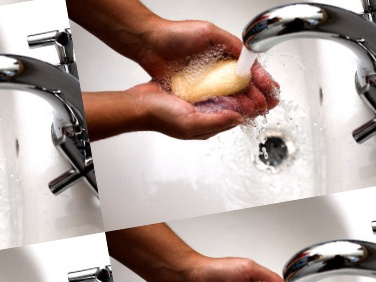washing hand: (112, 0, 362, 198)
